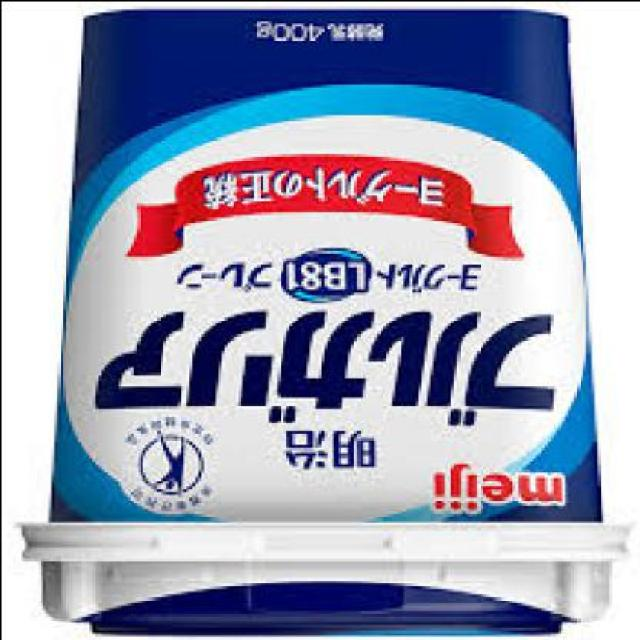PLASTIC: (21, 8, 634, 638)
